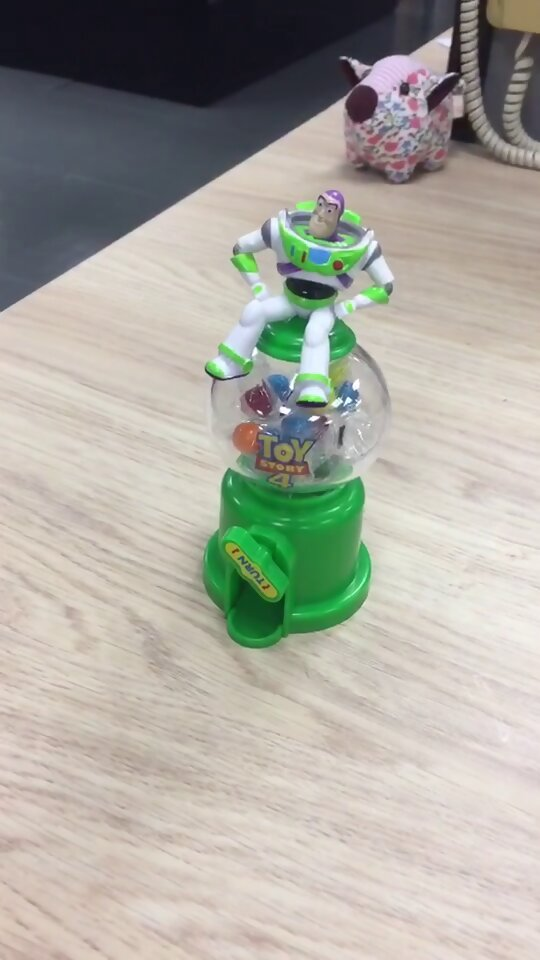buzz: (199, 183, 399, 653)
